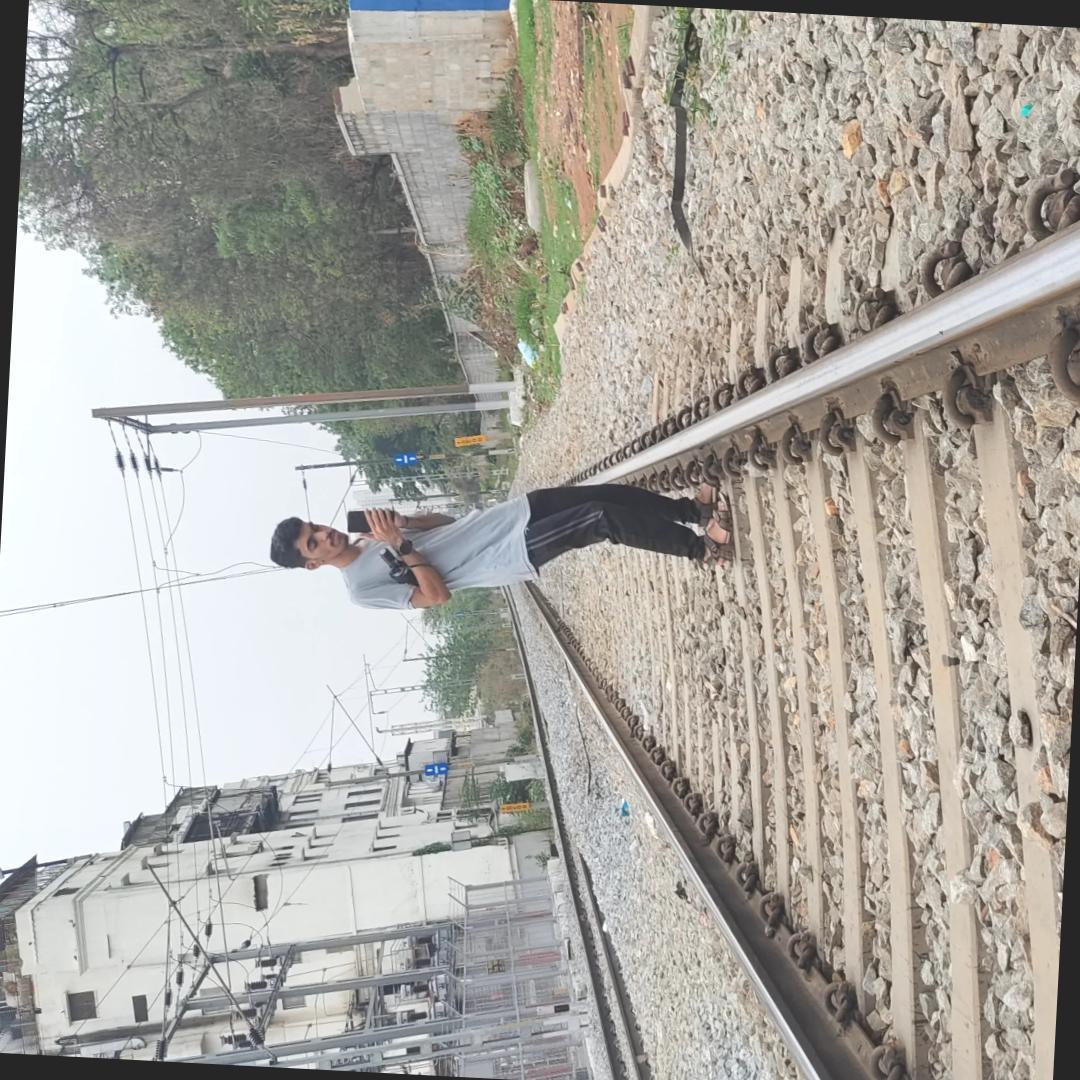standing: (268, 453, 771, 611)
track: (471, 142, 1080, 1080)
